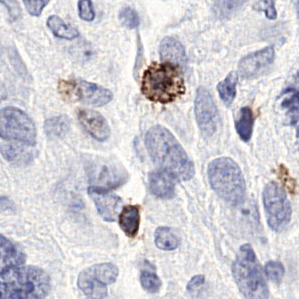Lymphocyte: (118, 204, 146, 235)
